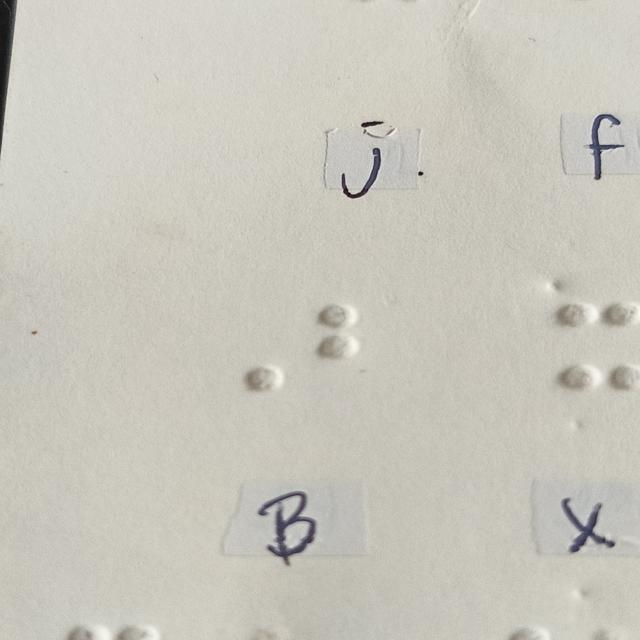B: (319, 305, 400, 395)
capital: (205, 305, 286, 395)
